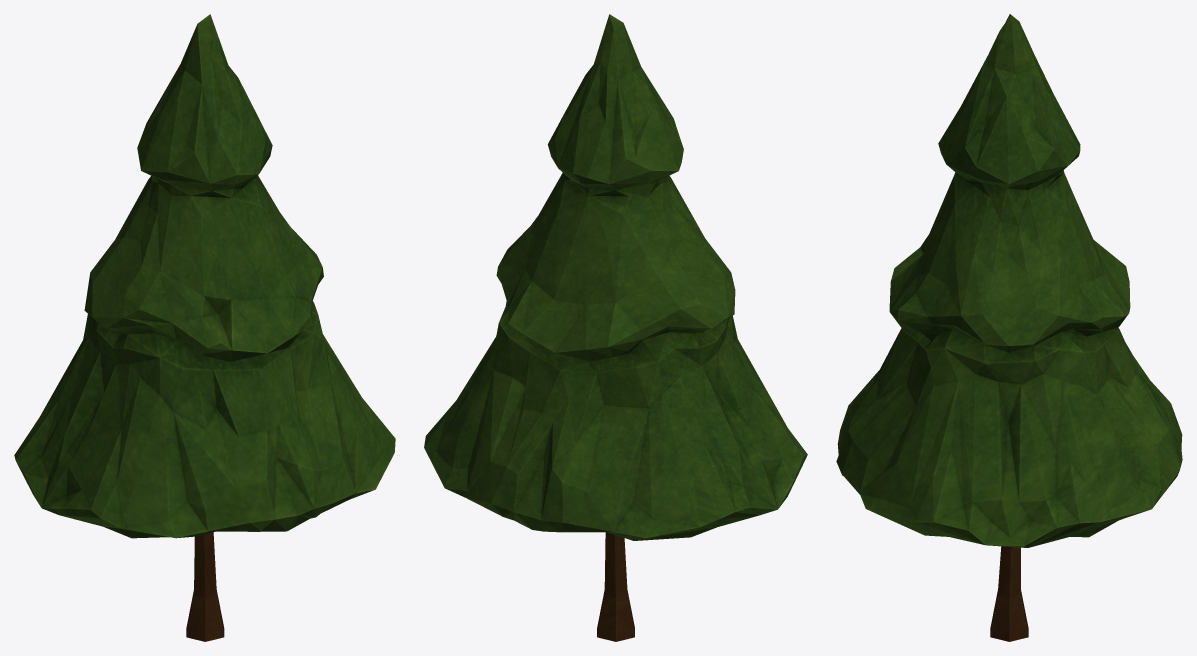
The model's file is PineTree.gltf.
3 views of the same model, side by side, from view 1: azimuth 30°, elevation 25°; view 2: azimuth 150°, elevation 25°; view 3: azimuth 270°, elevation 25° (orthographic).
Parts seen in each view (by area): view 1: node-0; view 2: node-0; view 3: node-0.
Part boxes in pixels (left/top/right/bottom): node-0: left=14, top=14, right=395, bottom=641; node-0: left=424, top=14, right=807, bottom=641; node-0: left=836, top=14, right=1182, bottom=641.
Bounding box in the file's own units: 10.84 × 19.65 × 9.93.
Materials: 1 (1 with a texture image).
